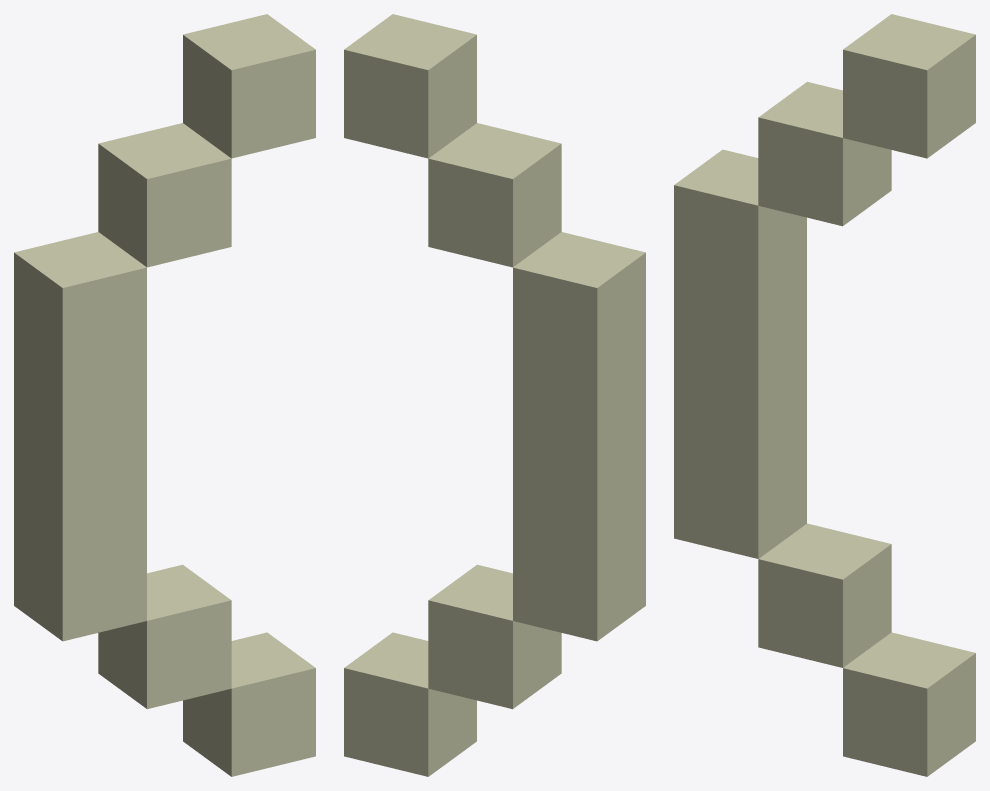
The model's file is Bow-Tan.vox.obj.
3 views of the same model, side by side, from view 1: azimuth 30°, elevation 25°; view 2: azimuth 150°, elevation 25°; view 3: azimuth 330°, elevation 25° (orthographic).
Size of the model in its own units: 0.3 by 0.8 by 0.1.
1 material, 1 textured.
